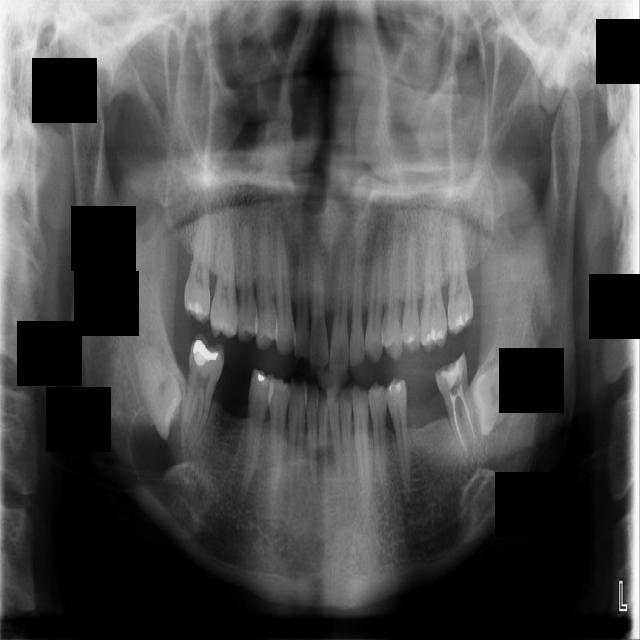52: (181, 331, 233, 388), (429, 353, 481, 401), (246, 368, 277, 415), (417, 307, 448, 352), (446, 293, 473, 338), (400, 309, 420, 351)
73: (442, 382, 482, 458), (599, 567, 603, 581)
BioHorizons Implant: (444, 216, 478, 338)
Biomet 3i Implant: (463, 357, 518, 442)
Blue Sky Bio Implant: (431, 352, 483, 462)
Caries: (183, 199, 213, 326)
Implant: (163, 333, 230, 449)
Keystone Dental Implant: (128, 338, 196, 445)
